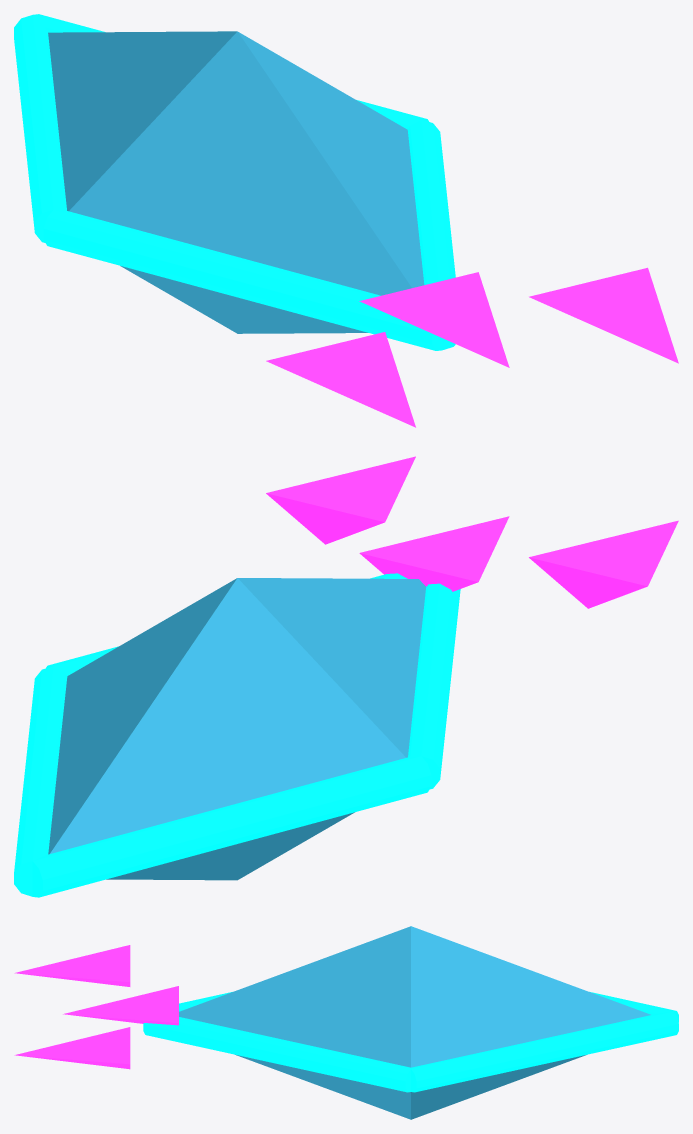
The model's file is fractal_shard.glb.
3 renders of one model, top to bottom at view 1: azimuth 30°, elevation 25°; view 2: azimuth 150°, elevation 25°; view 3: azimuth 270°, elevation 25°, orthographic. The views are drawn at different scales.
Parts seen in each view (by area): view 1: FractalShardDarkDiamond, FractalShardEdge2, FractalShardEdge3, FractalShardTail1, FractalShardTail2, FractalShardTail0, FractalShardEdge1, FractalShardEdge0; view 2: FractalShardDarkDiamond, FractalShardEdge3, FractalShardEdge0, FractalShardTail0, FractalShardTail2, FractalShardEdge2, FractalShardTail1, FractalShardEdge1; view 3: FractalShardDarkDiamond, FractalShardEdge0, FractalShardEdge1, FractalShardTail0, FractalShardTail2, FractalShardTail1, FractalShardEdge3.
Part boxes in pixels (bbox=[...]): FractalShardDarkDiamond: bbox=[48, 31, 424, 333]; FractalShardEdge2: bbox=[43, 209, 442, 350]; FractalShardEdge3: bbox=[14, 15, 66, 242]; FractalShardTail1: bbox=[359, 272, 509, 367]; FractalShardTail2: bbox=[529, 267, 678, 363]; FractalShardTail0: bbox=[266, 332, 415, 427]; FractalShardEdge1: bbox=[407, 120, 455, 350]; FractalShardEdge0: bbox=[33, 14, 428, 129]; FractalShardDarkDiamond: bbox=[48, 578, 425, 880]; FractalShardEdge3: bbox=[32, 756, 431, 897]; FractalShardEdge0: bbox=[14, 666, 67, 896]; FractalShardTail0: bbox=[529, 520, 678, 608]; FractalShardTail2: bbox=[266, 456, 415, 544]; FractalShardEdge2: bbox=[408, 583, 460, 789]; FractalShardTail1: bbox=[359, 516, 509, 591]; FractalShardEdge1: bbox=[46, 573, 407, 675]; FractalShardDarkDiamond: bbox=[179, 926, 650, 1119]; FractalShardEdge0: bbox=[411, 1011, 678, 1092]; FractalShardEdge1: bbox=[143, 1017, 410, 1092]; FractalShardTail0: bbox=[14, 945, 130, 986]; FractalShardTail2: bbox=[14, 1027, 130, 1069]; FractalShardTail1: bbox=[63, 986, 178, 1025]; FractalShardEdge3: bbox=[589, 991, 678, 1022].
Size of the model in its own units: 0.6764 by 0.4928 by 1.53.
